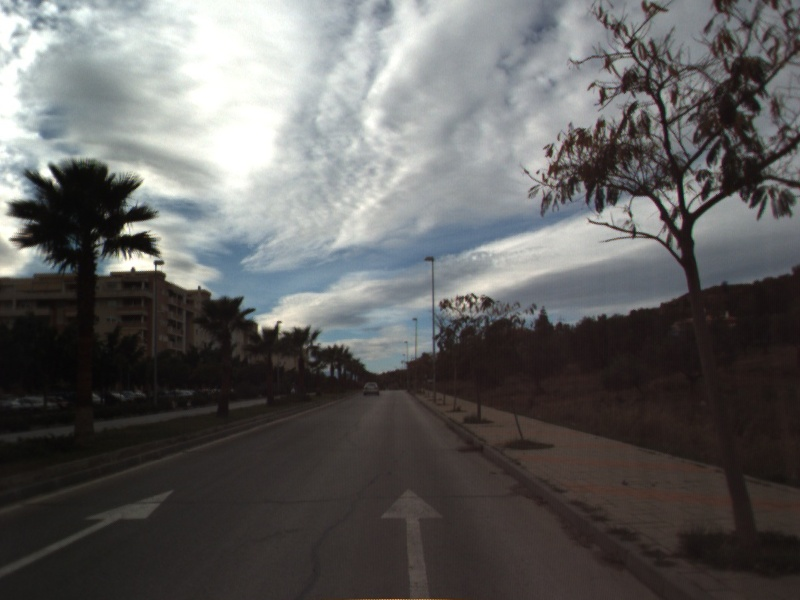STRAIGHT: (1, 487, 177, 579), (378, 486, 446, 600)
